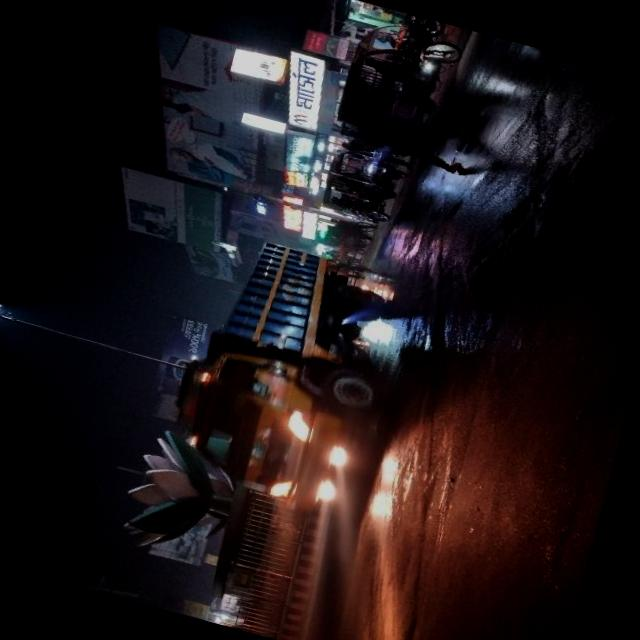motorcycle: (328, 11, 470, 152), (316, 142, 406, 228), (318, 211, 372, 257)
truck: (158, 227, 404, 508)
